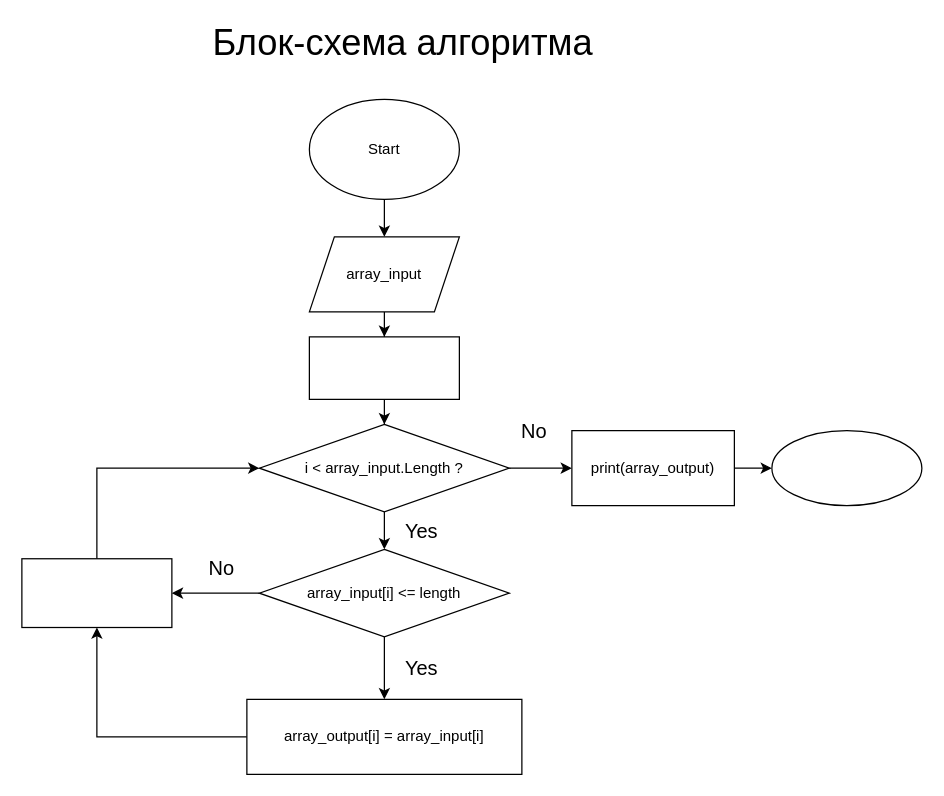
This 944x796 diagram has some shape labels left out. The shapes that lost their labels are listed below. From the top down, each one's box as (x1, y1, x2, y2) in pixels, then its label:
(308, 336, 459, 399): i = 0 length = 3 array_output
(771, 429, 922, 506): Finish
(21, 558, 172, 628): i++
